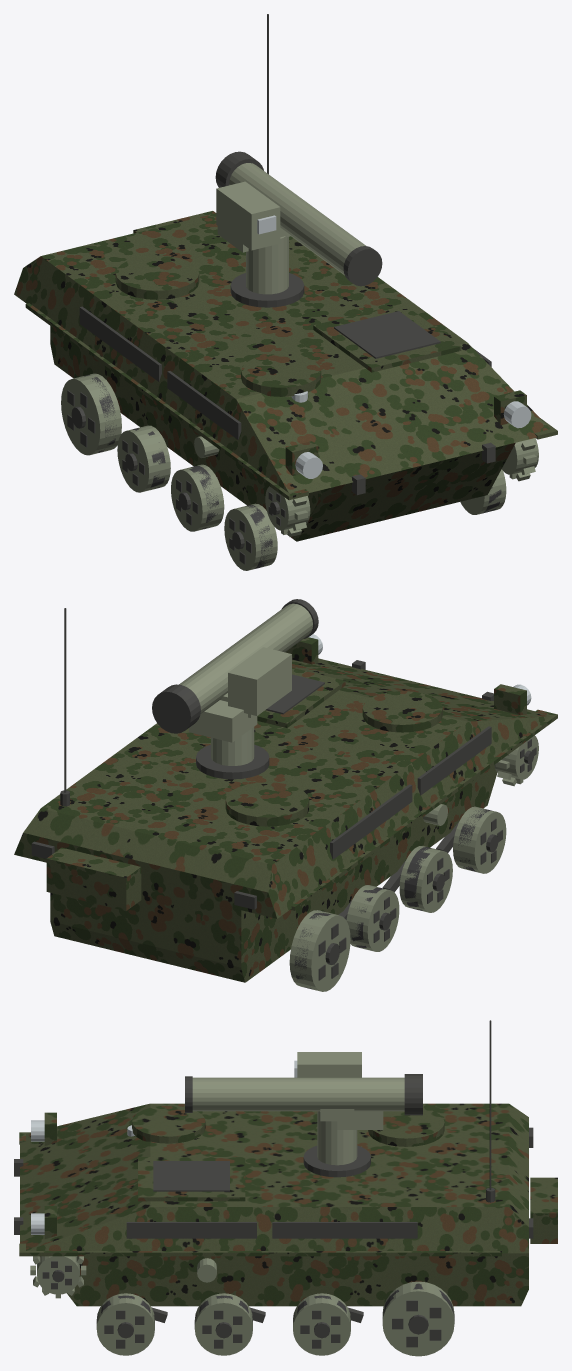
File: Wiesel.glb
3 views of the same model, one above another, from view 1: azimuth 30°, elevation 25°; view 2: azimuth 150°, elevation 25°; view 3: azimuth 270°, elevation 25° (orthographic). The views are drawn at different scales.
Parts seen in each view (by area): view 1: hull, cannon, armFest, radL0, turret, radL1, radL2, radL3, radL4, radR4, radR3; view 2: hull, cannon, armFest, radL0, radL2, radL3, radL1, turret, radL4; view 3: hull, cannon, armFest, radR0, turret, radR3, radR2, radR1, radR4, rollR1.
Boxes of the visible parts, left/top/right/bottom form: hull: left=14, top=213, right=550, bottom=541; cannon: left=215, top=151, right=382, bottom=286; armFest: left=25, top=14, right=557, bottom=500; radL0: left=61, top=373, right=121, bottom=455; turret: left=230, top=228, right=304, bottom=307; radL1: left=117, top=425, right=170, bottom=492; radL2: left=171, top=464, right=224, bottom=531; radL3: left=224, top=503, right=277, bottom=570; radL4: left=265, top=486, right=310, bottom=536; radR4: left=502, top=438, right=538, bottom=481; radR3: left=460, top=469, right=506, bottom=514; hull: left=14, top=658, right=550, bottom=982; cannon: left=152, top=599, right=318, bottom=742; armFest: left=31, top=608, right=557, bottom=910; radL0: left=289, top=910, right=350, bottom=991; radL2: left=399, top=846, right=452, bottom=912; radL3: left=453, top=806, right=506, bottom=873; radL1: left=346, top=885, right=399, bottom=951; turret: left=196, top=693, right=269, bottom=779; radL4: left=494, top=735, right=538, bottom=786; hull: left=20, top=1103, right=528, bottom=1306; cannon: left=185, top=1052, right=422, bottom=1129; armFest: left=14, top=1020, right=557, bottom=1256; radR0: left=382, top=1281, right=454, bottom=1356; turret: left=303, top=1109, right=370, bottom=1177; radR3: left=96, top=1293, right=154, bottom=1355; radR2: left=194, top=1293, right=252, bottom=1355; radR1: left=293, top=1293, right=350, bottom=1355; radR4: left=30, top=1256, right=86, bottom=1298; rollR1: left=197, top=1258, right=216, bottom=1282.
Size of the model in its own units: 1.86 by 2.34 by 3.55.
6 materials, 1 textured.
